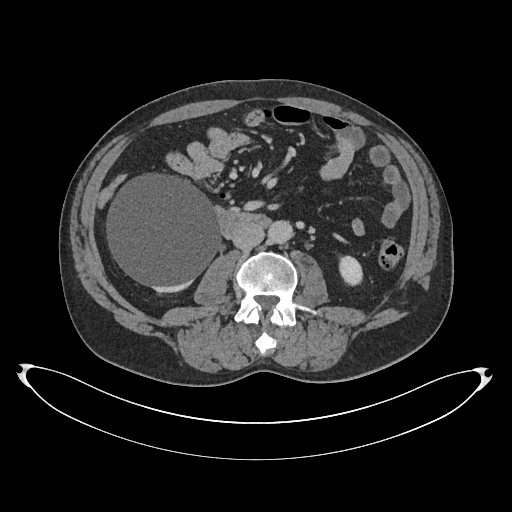Lesion: (102, 170, 222, 289)
